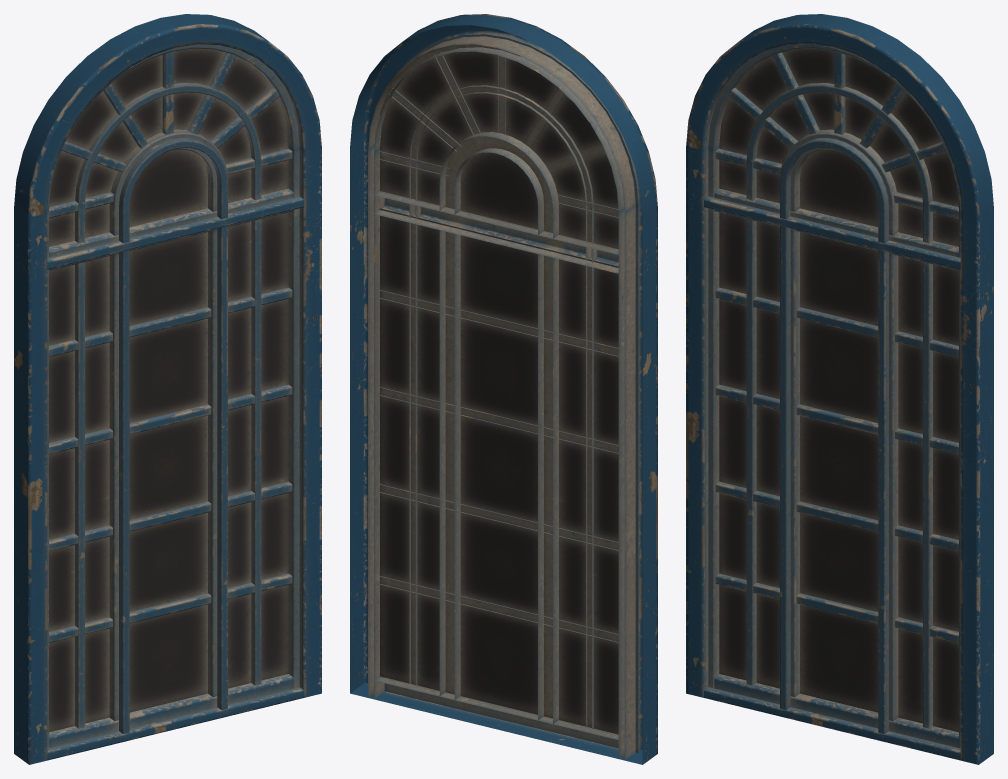
The model's file is SM_WindowLarge.FBX.
The picture shows the model from 3 angles, left to right: view 1: azimuth 30°, elevation 25°; view 2: azimuth 150°, elevation 25°; view 3: azimuth 330°, elevation 25°; orthographic projection.
Parts seen in each view (by area): view 1: SM_WindowLarge; view 2: SM_WindowLarge; view 3: SM_WindowLarge.
Part boxes in pixels (<box>): SM_WindowLarge: <box>14,14,321,764</box>; SM_WindowLarge: <box>350,14,657,764</box>; SM_WindowLarge: <box>686,14,993,764</box>.
Bounding box in the file's own units: 234 × 21.03 × 536.
